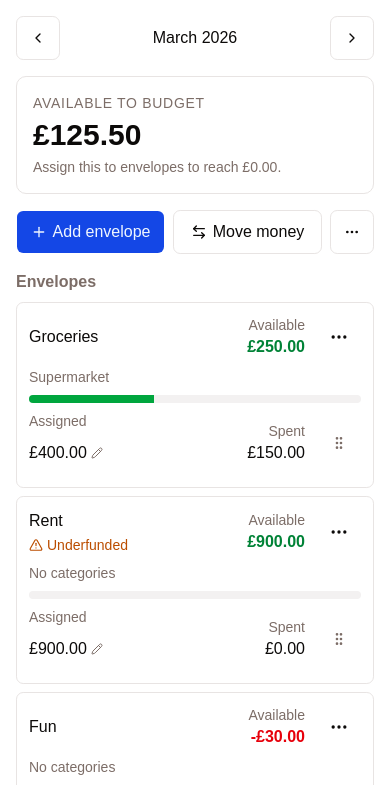
Scenario: BudgetPage actions › the card menu edit opens the edit form with its category mapping
The width and height of the screenshot is (390, 785).
Click the button named "More actions for Groceries".
click(339, 337)  # box top-left (317, 315), bottom-right (361, 359)
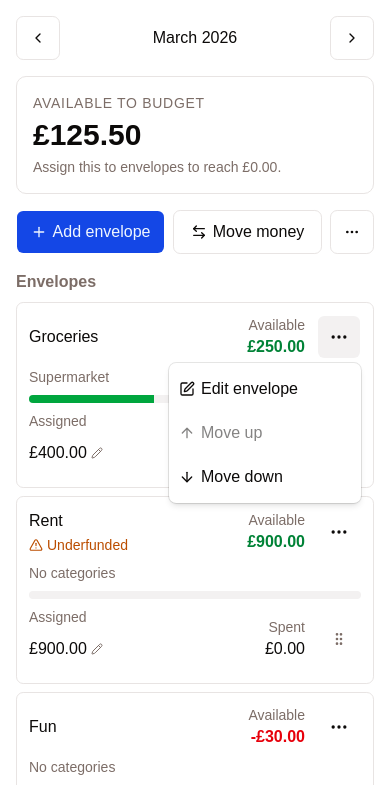
Click the menu item "Edit envelope".
click(238, 388)  # box top-left (179, 380), bottom-right (298, 397)
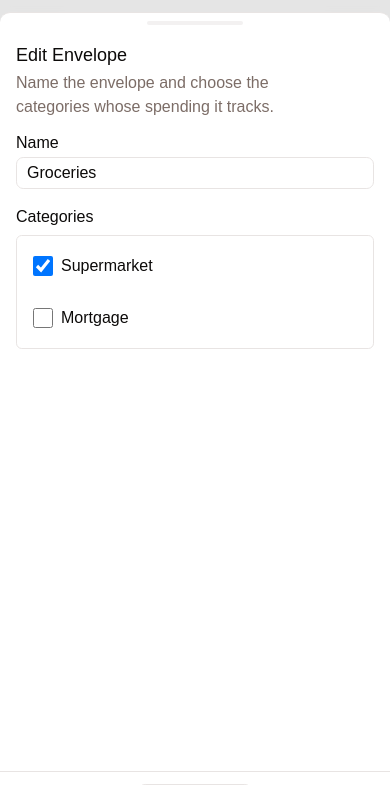
Expected: the heading "Edit Envelope" is shown, top-left (16, 45), bottom-right (127, 65)
Expected: the field labelled "Name" holds "Groceries", top-left (16, 157), bottom-right (374, 189)
Expected: the checkbox labelled "Supermarket" is checked, top-left (33, 256), bottom-right (53, 276)
